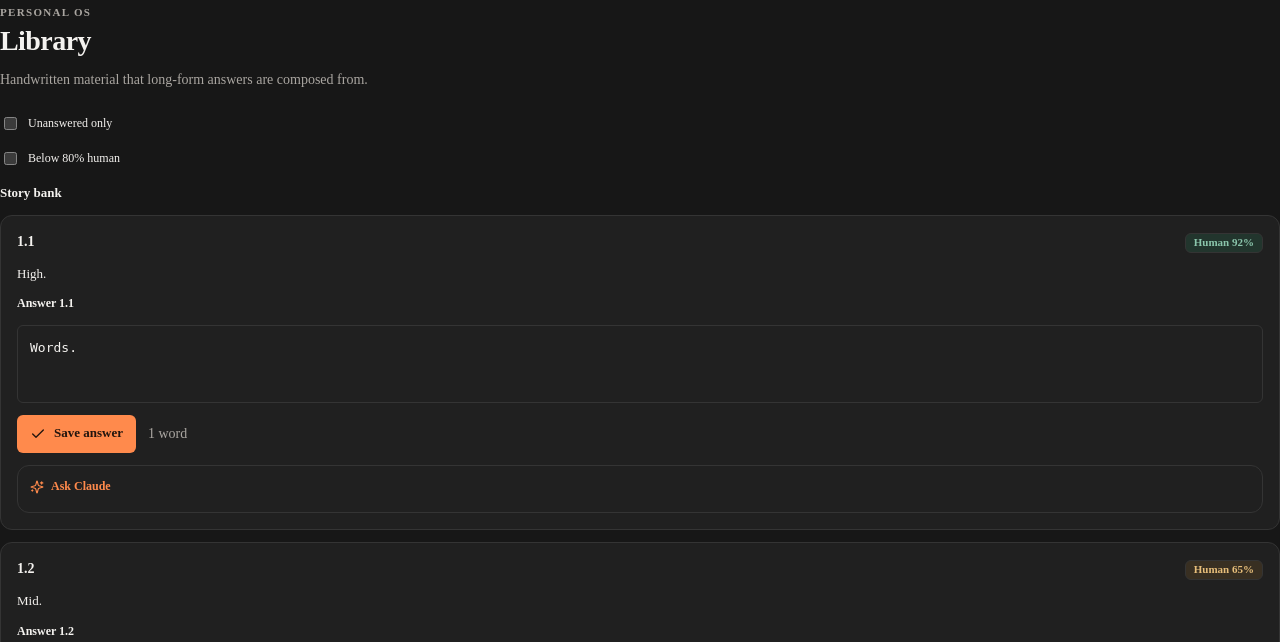
Test case: the below-80 filter keeps unchecked and low-scoring answered entries
Expected: the text box labelled "Answer 1.1" is shown, [17,325,1263,403]
Click the checkbox labelled "Below 80% human": {"x": 10, "y": 158} [4,152,17,165]
(page scrolled)
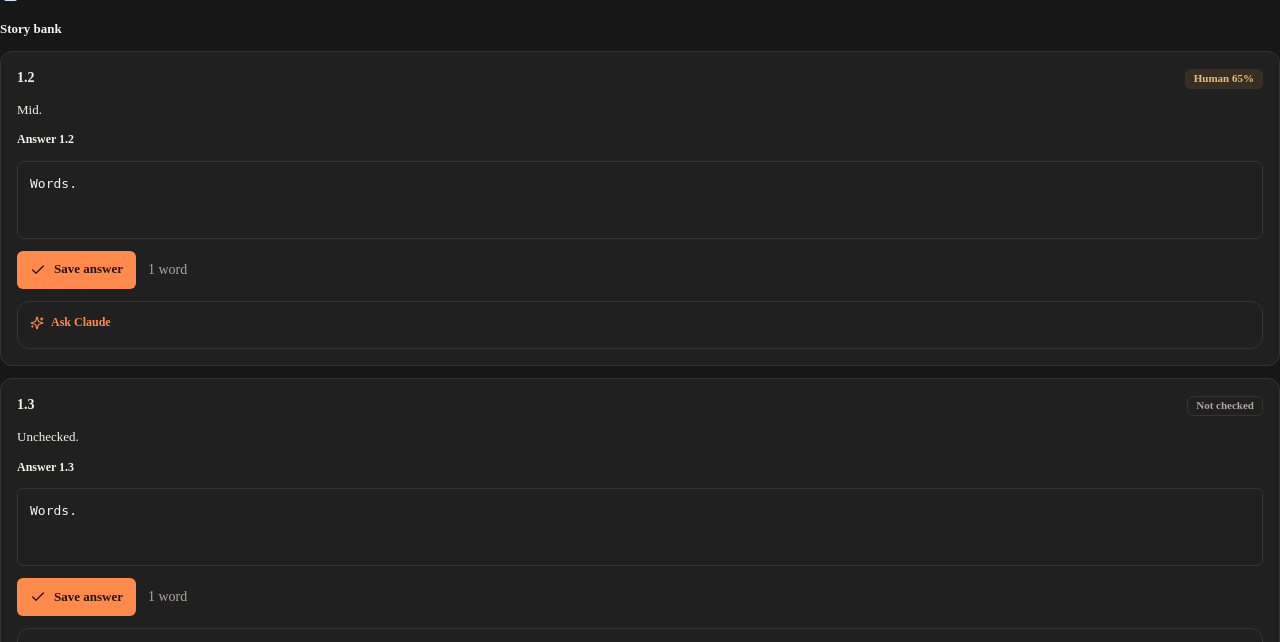
Expected: the text box labelled "Answer 1.2" is shown, [17,161,1263,239]
Expected: the text labelled "Answer 1.1" is gone
